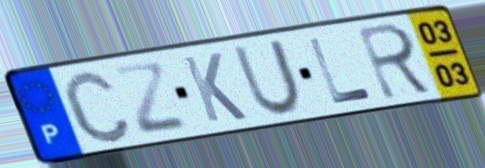C: (58, 67, 136, 146)
K: (179, 50, 251, 125)
L: (304, 35, 377, 107)
R: (354, 20, 439, 103)
U: (230, 37, 306, 119)
Z: (109, 60, 192, 138)
